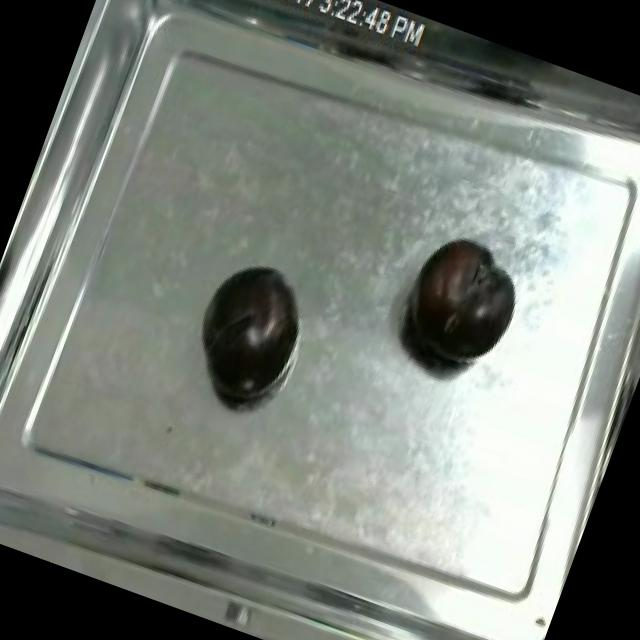Fruit: (385, 221, 538, 390), (179, 248, 317, 408)
